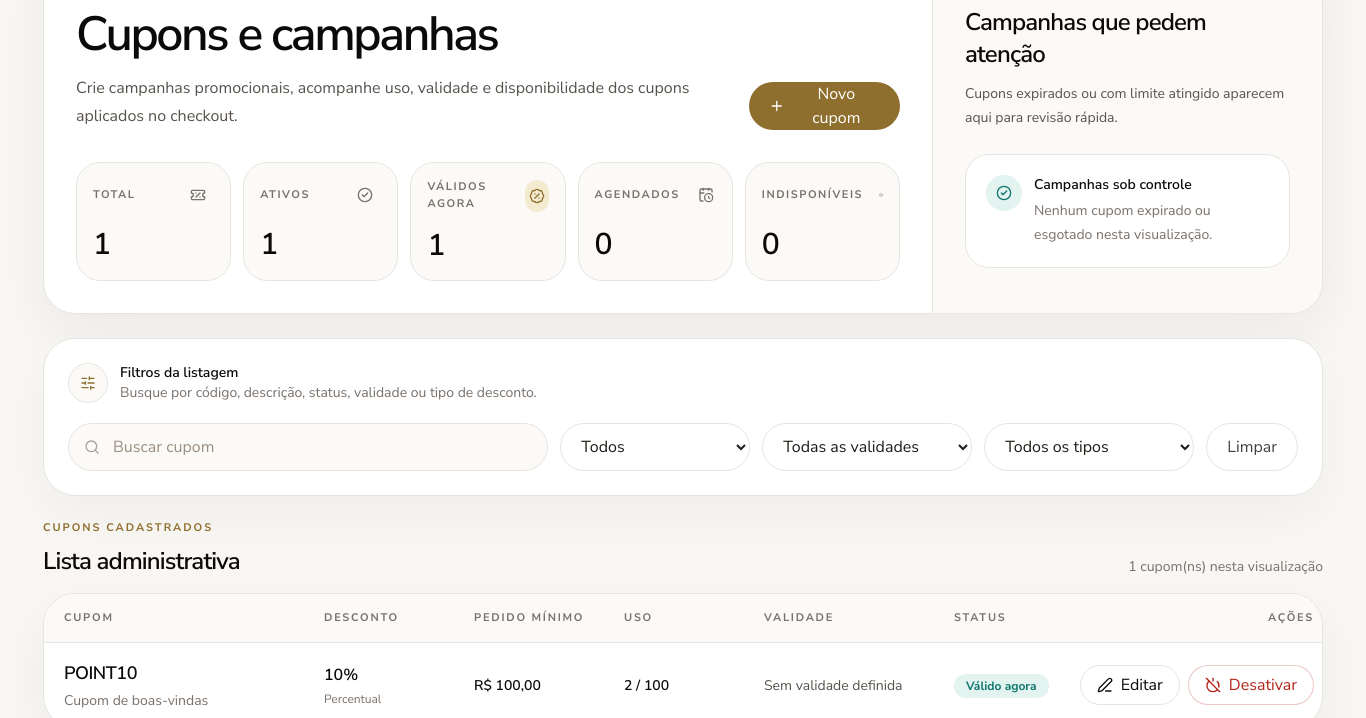
AdminCouponsPage › abre formulário de edição do cupom
The width and height of the screenshot is (1366, 718).
(page scrolled)
Expected: the text "POINT10" is shown, [64,662,137,686]
Click the button "Editar".
click(1130, 686)  # box [1080,666,1180,706]
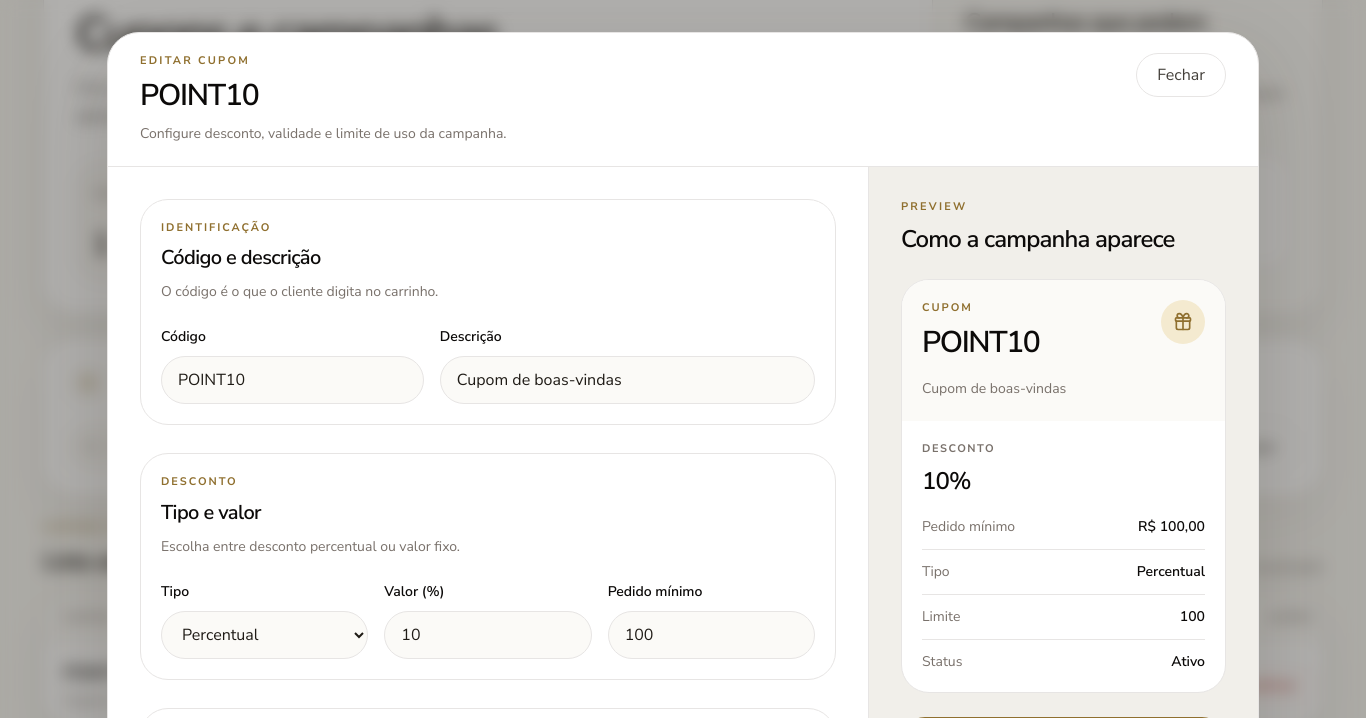
Now the text "Editar cupom" is shown, box [140,53,250,68]
Now the field showing "POINT10" is shown, box [161,356,424,404]
